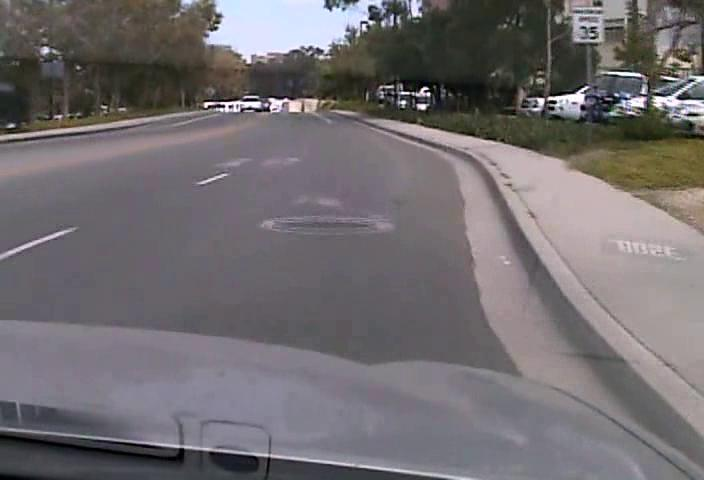speedLimit35: (571, 5, 604, 44)
